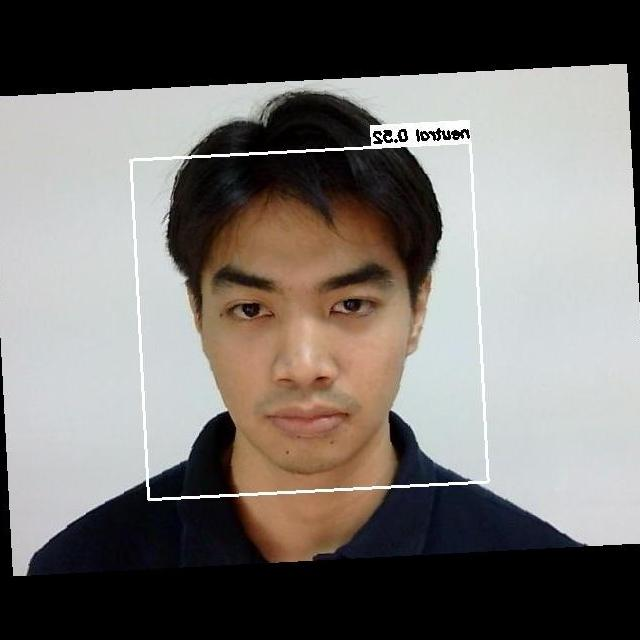Natural: (175, 214, 399, 462)
